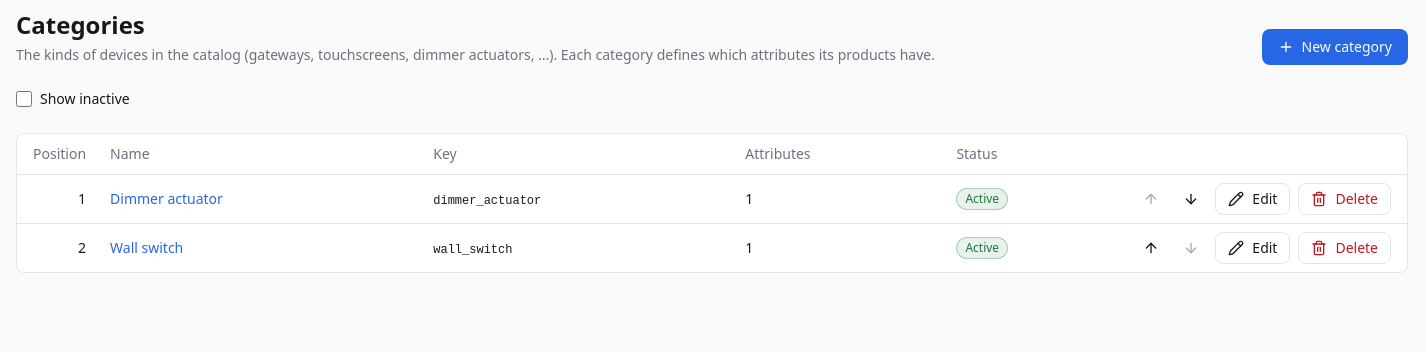
it: CategoriesPage › shows reorder errors
The width and height of the screenshot is (1425, 352).
Click the button named "Move Dimmer actuator down": (1191, 199) 1175,183 -> 1207,215
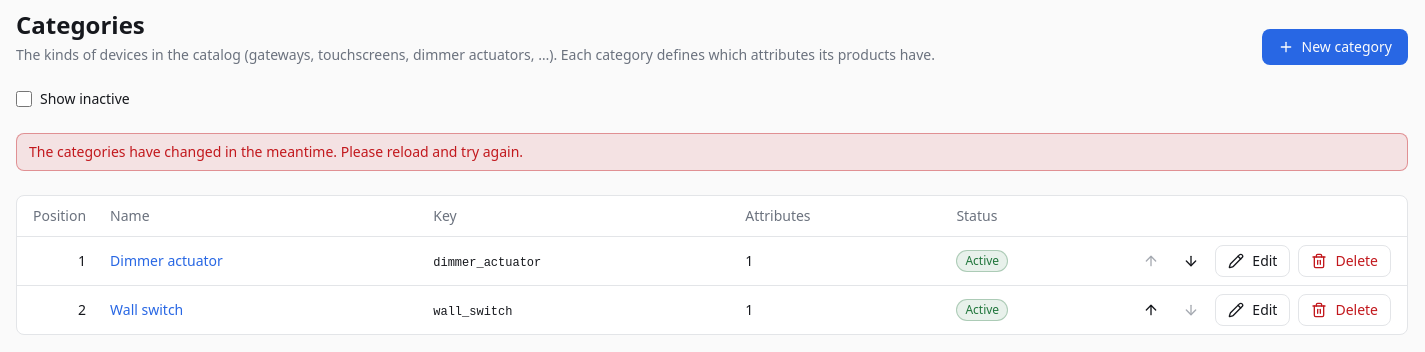
Result: the message shows "The categories have changed in the meantime." at 29,142 -> 523,161
